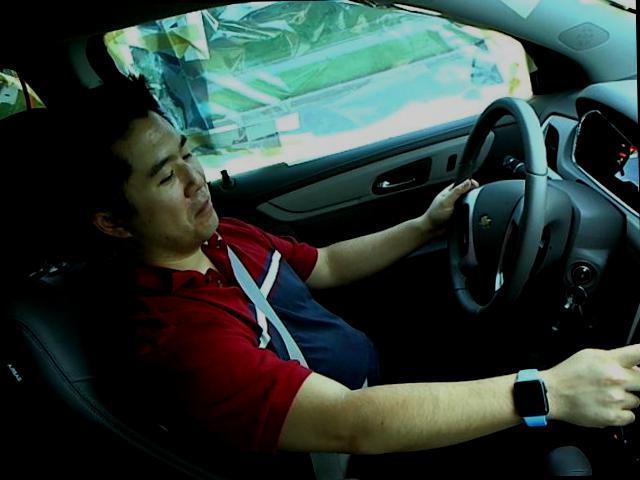c3 - Operating the Radio: (33, 62, 638, 456)
